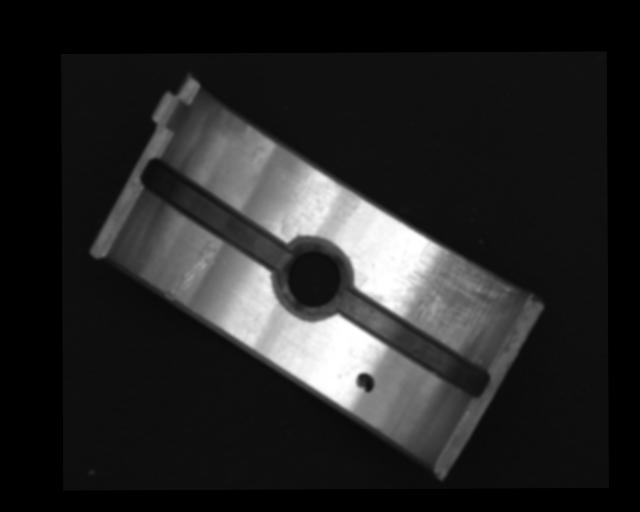blot: (355, 373, 375, 393)
bruise: (250, 145, 268, 166)
gap: (139, 157, 288, 269), (340, 290, 489, 395)
hole: (272, 237, 351, 318)
nick: (165, 240, 218, 301)
scratch: (373, 236, 518, 351)
